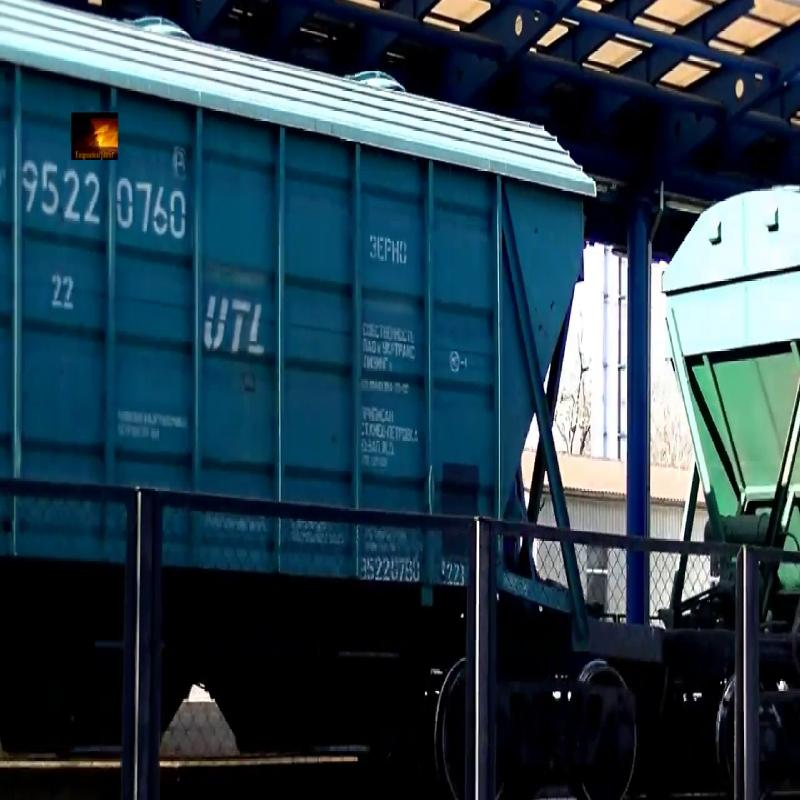train: (1, 2, 608, 742), (655, 6, 800, 725)
